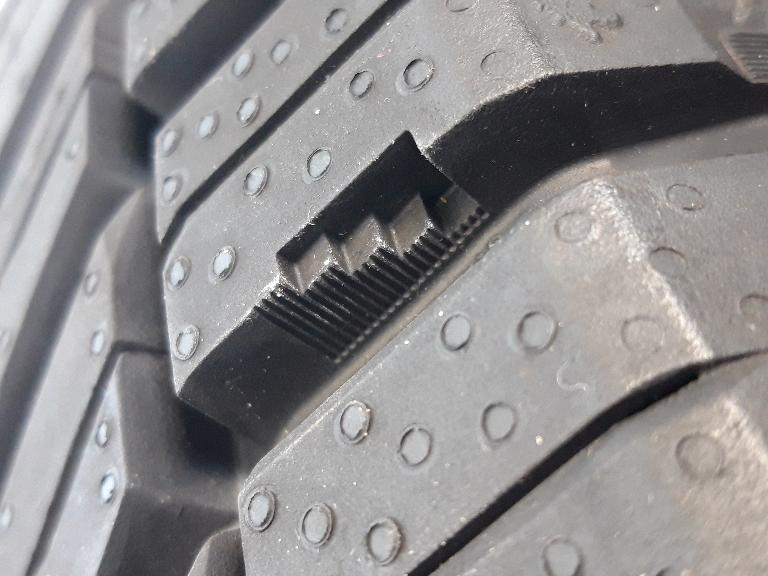temoin:100: (244, 124, 500, 370)
